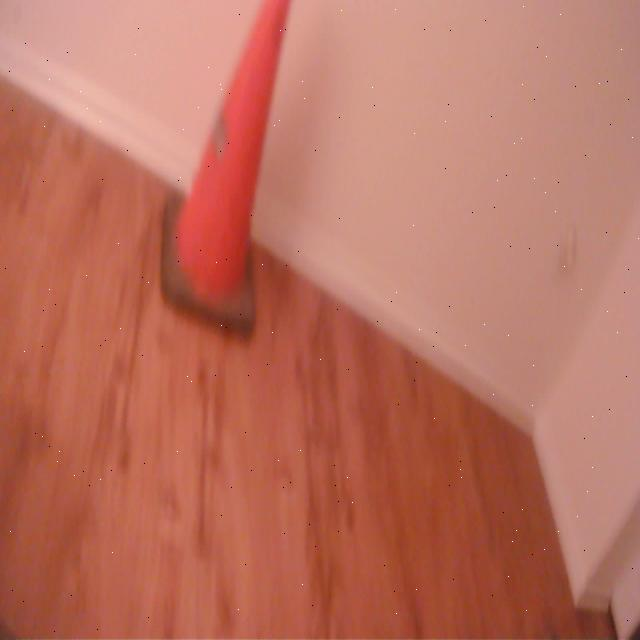traffic cone: (157, 1, 301, 347)
